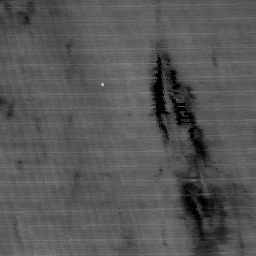Target: (99, 81, 105, 87)
